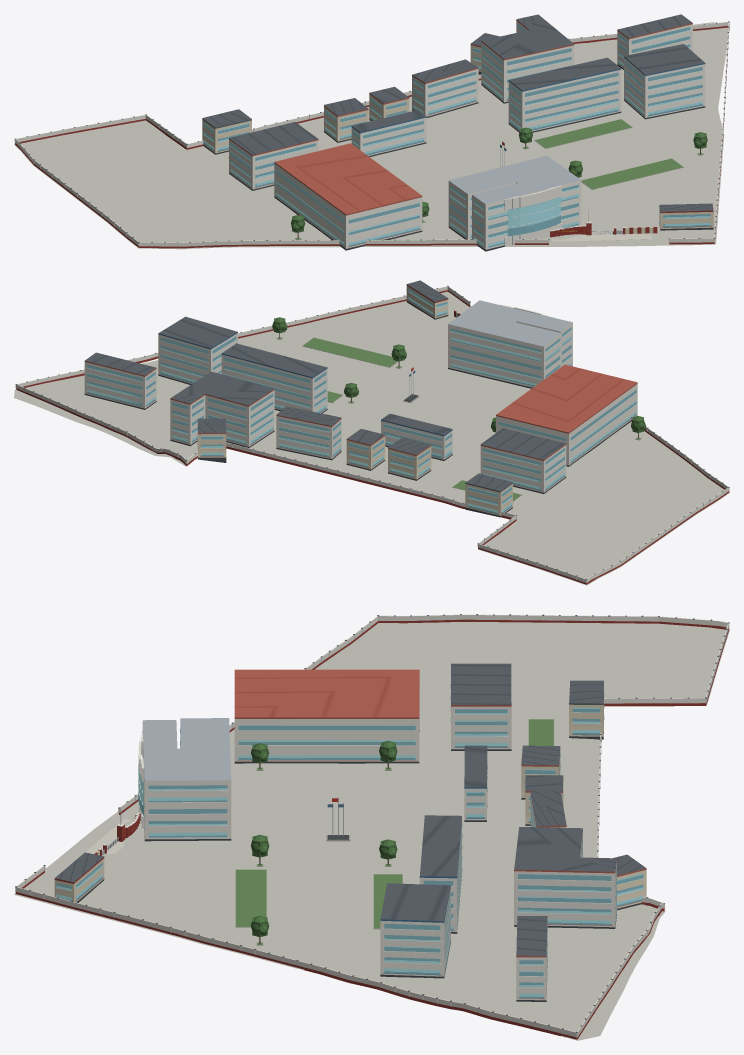
File: tianjiabing.glb
3 views of the same model, one above another, from view 1: azimuth 30°, elevation 25°; view 2: azimuth 150°, elevation 25°; view 3: azimuth 270°, elevation 25° (orthographic). The views are drawn at different scales.
Parts seen in each view (by area): view 1: lod0_atlas, lod0_lit, lod1_atlas; view 2: lod0_atlas, lod0_lit, lod1_atlas; view 3: lod0_atlas, lod0_lit, lod1_atlas.
Boxes of the visible parts, x1=… form: lod0_atlas: x1=14, y1=14, x2=729, y2=251; lod0_lit: x1=203, y1=24, x2=710, y2=247; lod1_atlas: x1=15, y1=22, x2=729, y2=246; lod0_atlas: x1=14, y1=280, x2=729, y2=585; lod0_lit: x1=87, y1=288, x2=636, y2=513; lod1_atlas: x1=16, y1=286, x2=728, y2=582; lod0_atlas: x1=14, y1=614, x2=729, y2=1040; lod0_lit: x1=56, y1=684, x2=643, y2=998; lod1_atlas: x1=16, y1=614, x2=728, y2=1037.
Size of what is drawn, in the model's own units: 279 by 20.72 by 201.
2 materials, 2 textured.
